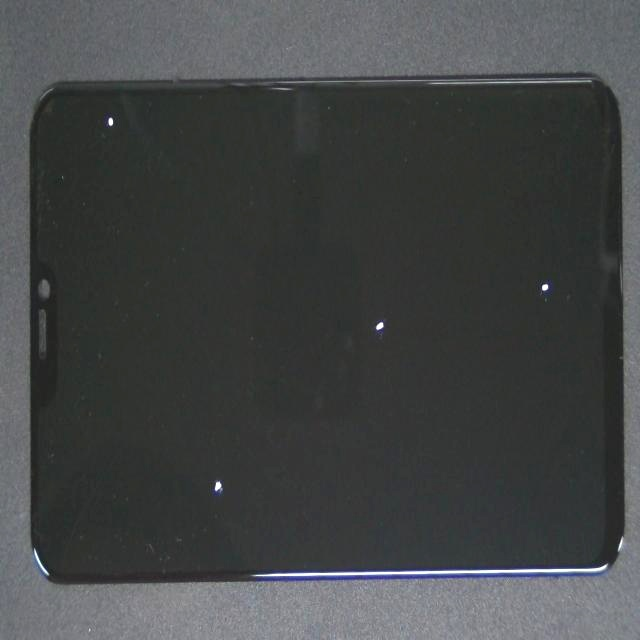stain: (197, 139, 565, 453), (293, 150, 640, 411), (121, 187, 317, 640), (63, 14, 157, 160)
